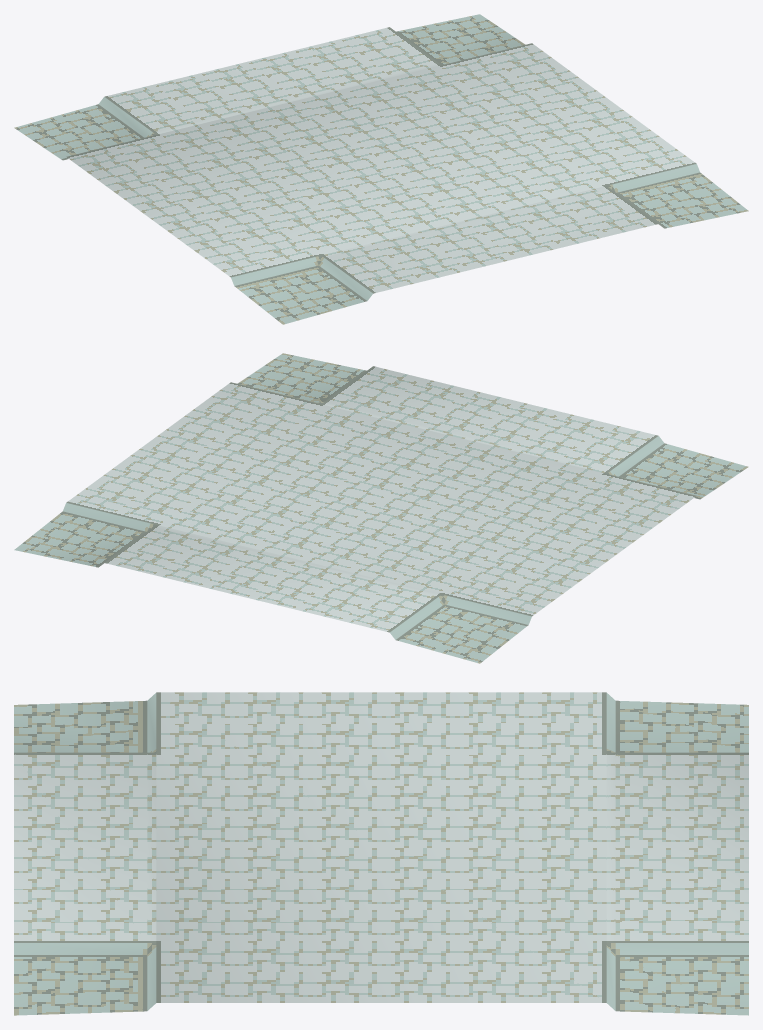
The model's file is Urban_Street_4_Way.gltf.
3 views of the same model, one above another, from view 1: azimuth 30°, elevation 25°; view 2: azimuth 150°, elevation 25°; view 3: azimuth 270°, elevation 25° (orthographic). The views are drawn at different scales.
Size of the model in its own units: 10 by 0.1885 by 10.
1 material, 1 textured.
